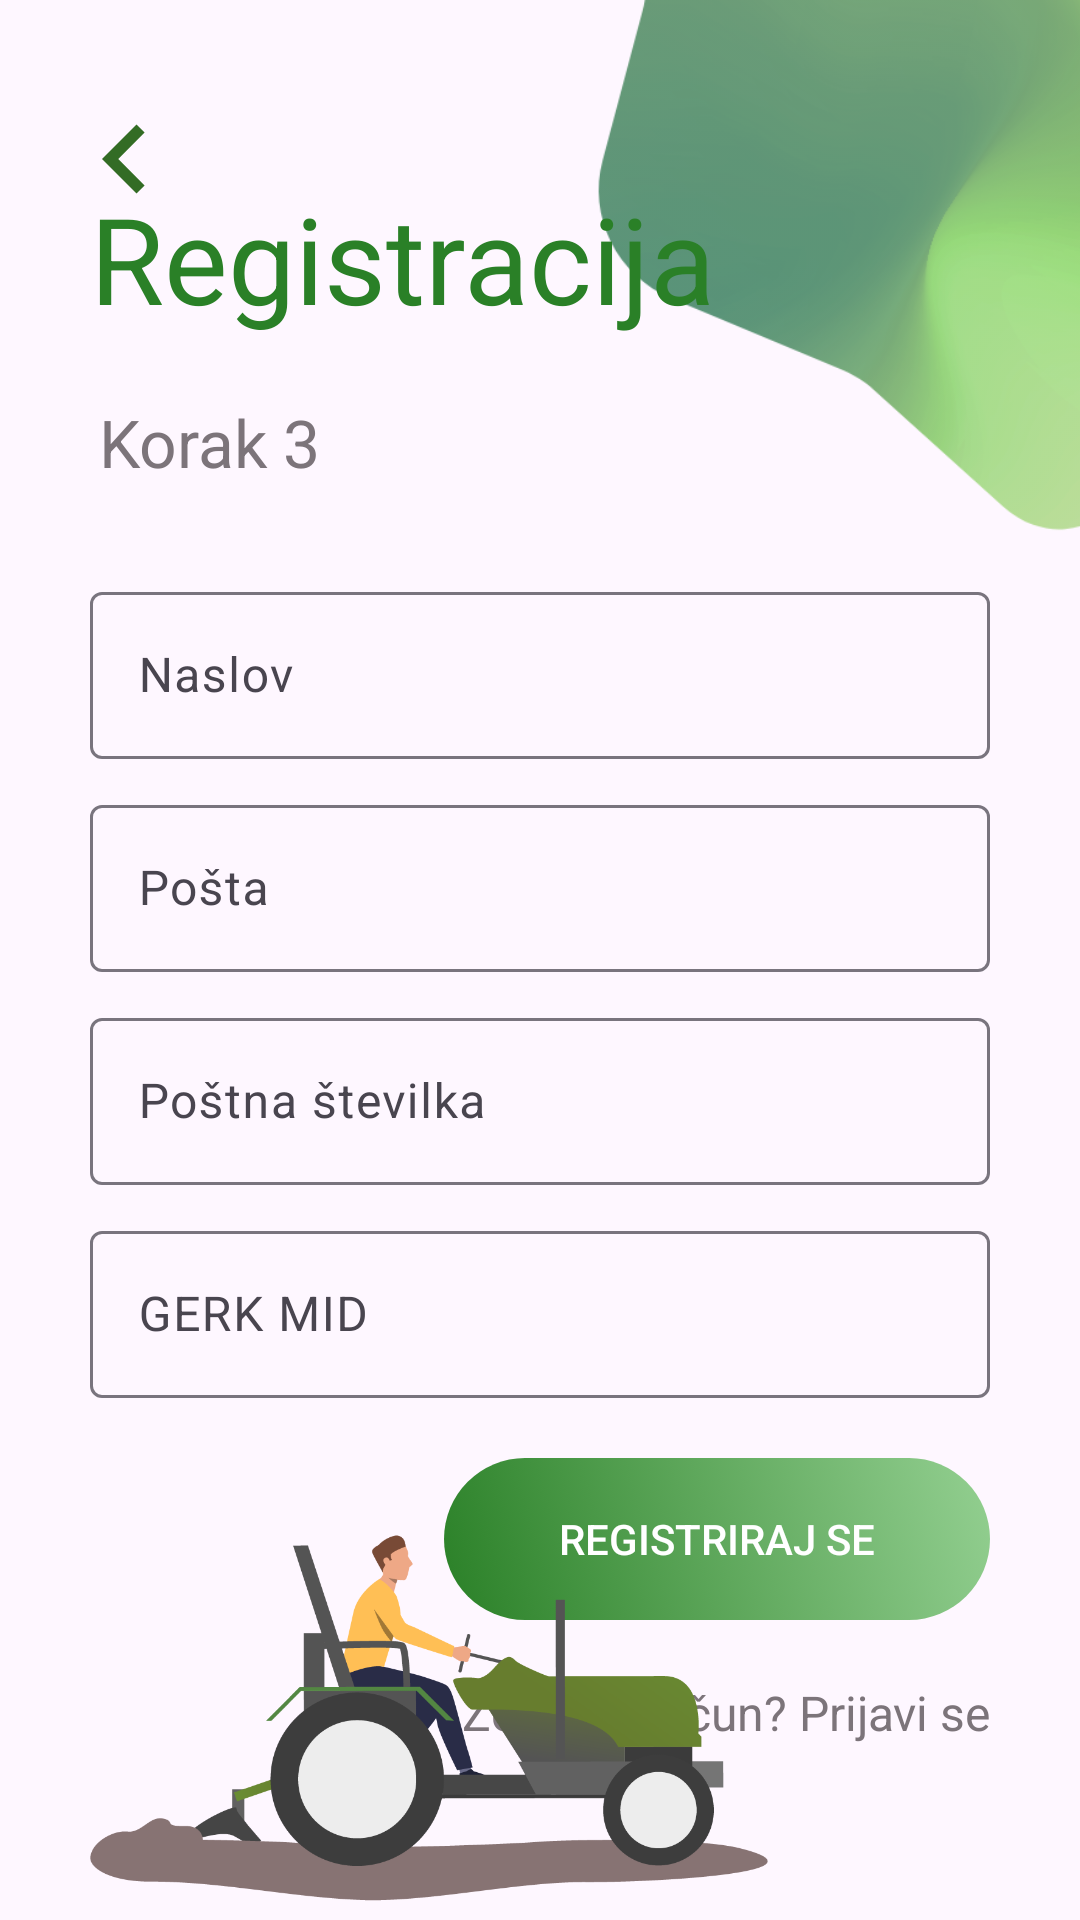

Icons on this 1080 × 1920 Android screen, each with its box as detection(x1, y1, x2, y2):
arrow left: detection(102, 124, 145, 194)
